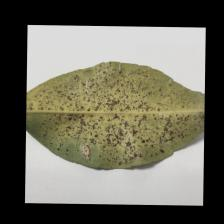canker: (57, 87, 168, 147)
